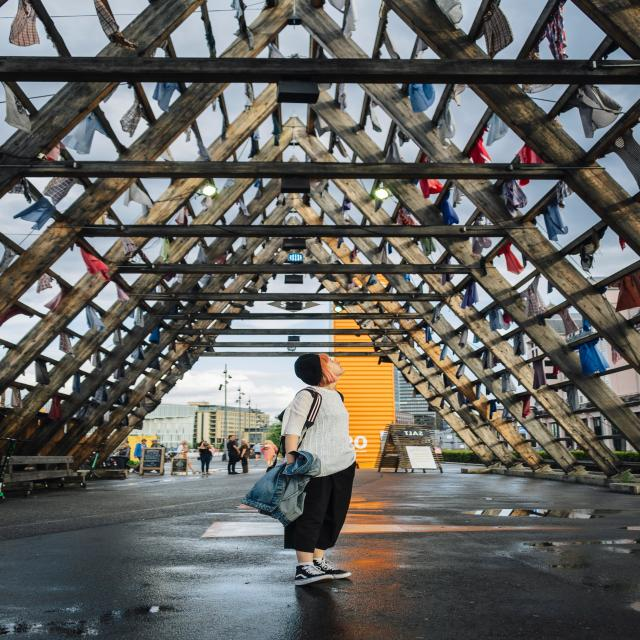adult: (273, 352, 356, 586), (176, 440, 198, 473), (197, 440, 213, 475), (228, 436, 240, 474), (238, 439, 250, 474), (262, 441, 278, 466), (135, 439, 147, 460), (117, 440, 131, 456), (150, 440, 162, 448)
